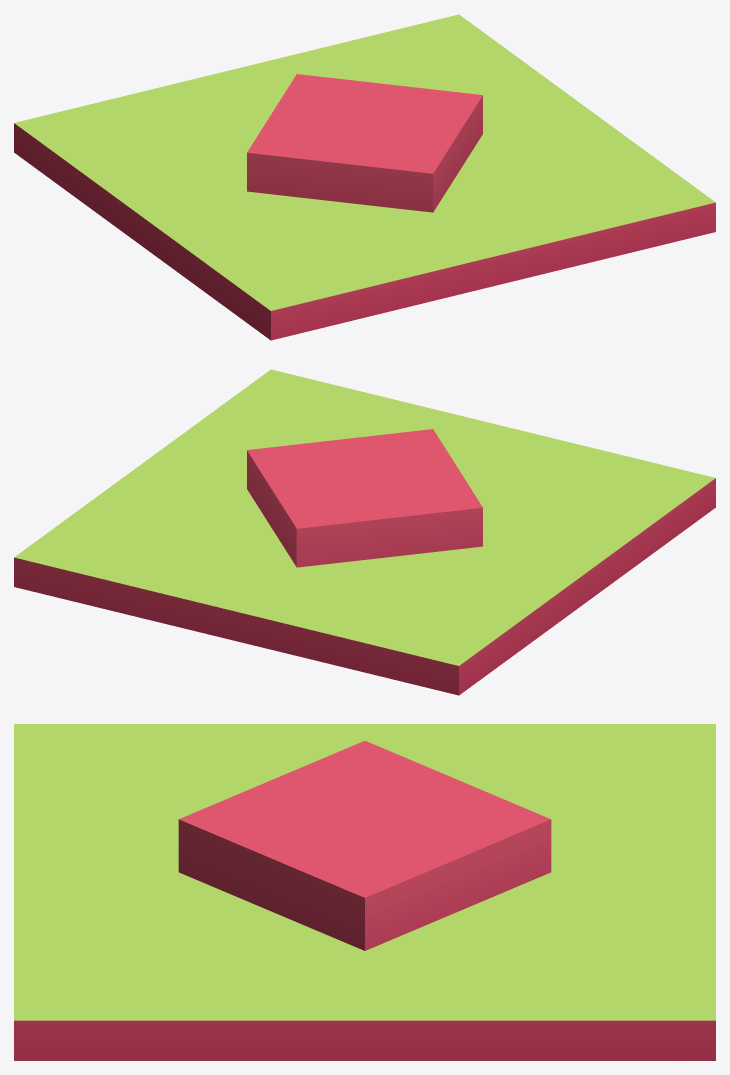
The model's file is obstacle-diamond.fbx.
3 views of the same model, one above another, from view 1: azimuth 30°, elevation 25°; view 2: azimuth 150°, elevation 25°; view 3: azimuth 270°, elevation 25° (orthographic). The views are drawn at different scales.
Parts seen in each view (by area): view 1: obstacle_diamond; view 2: obstacle_diamond; view 3: obstacle_diamond.
Part boxes in pixels (box(x1,y1,x2,y2)): obstacle_diamond: box(14, 14, 715, 340); obstacle_diamond: box(14, 369, 715, 695); obstacle_diamond: box(14, 724, 715, 1060).
Size of the model in its own units: 99.99 by 14.67 by 99.99.
